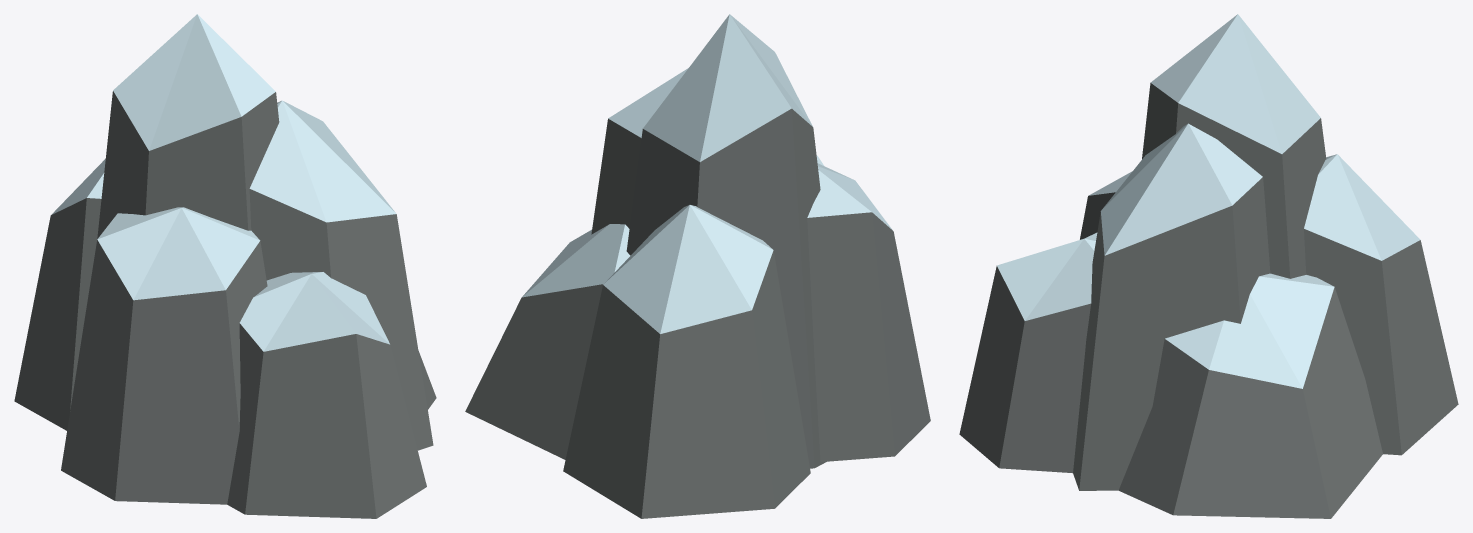
File: SM_Env_Generic_Rock_05_Snow.glb
3 views of the same model, side by side, from view 1: azimuth 30°, elevation 25°; view 2: azimuth 150°, elevation 25°; view 3: azimuth 270°, elevation 25° (orthographic). The views are drawn at different scales.
Visible parts, largest first — view 1: SM_Env_Generic_Rock_05_Snow; view 2: SM_Env_Generic_Rock_05_Snow; view 3: SM_Env_Generic_Rock_05_Snow.
Boxes of the visible parts, x1,y1,x2,y2 form: SM_Env_Generic_Rock_05_Snow: [14, 14, 436, 518]; SM_Env_Generic_Rock_05_Snow: [465, 14, 930, 518]; SM_Env_Generic_Rock_05_Snow: [959, 14, 1458, 518].
Size of the model in its own units: 0.8343 by 0.9378 by 1.01.
Materials: 1 (1 with a texture image).
